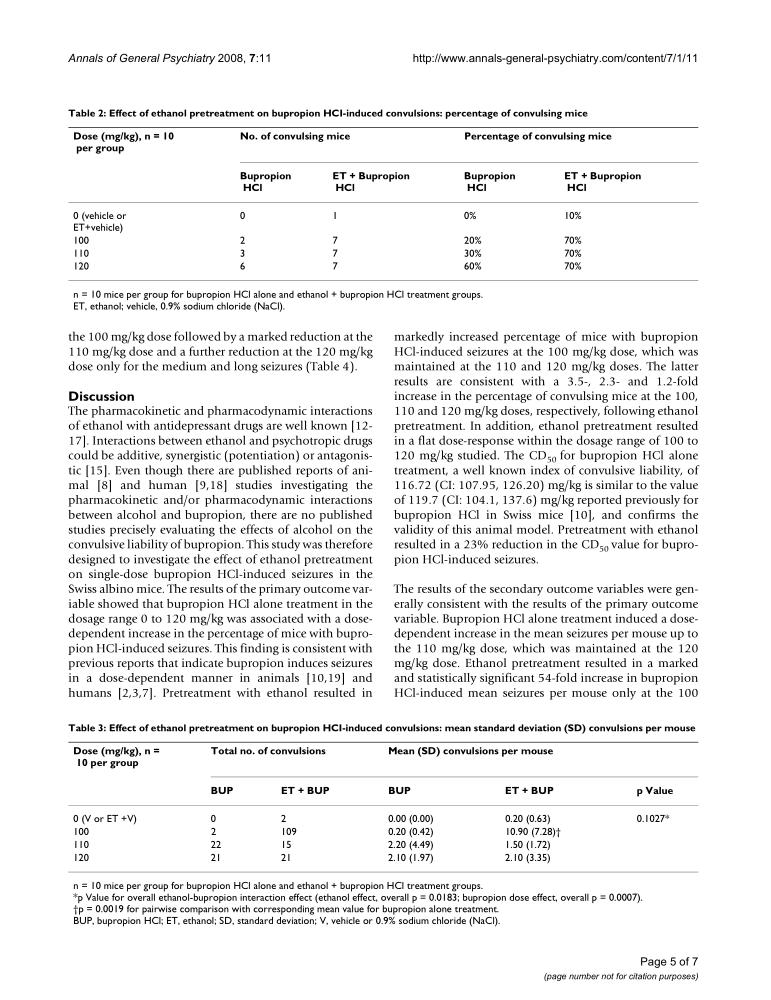table: (73, 129, 641, 272), (73, 744, 673, 863)
